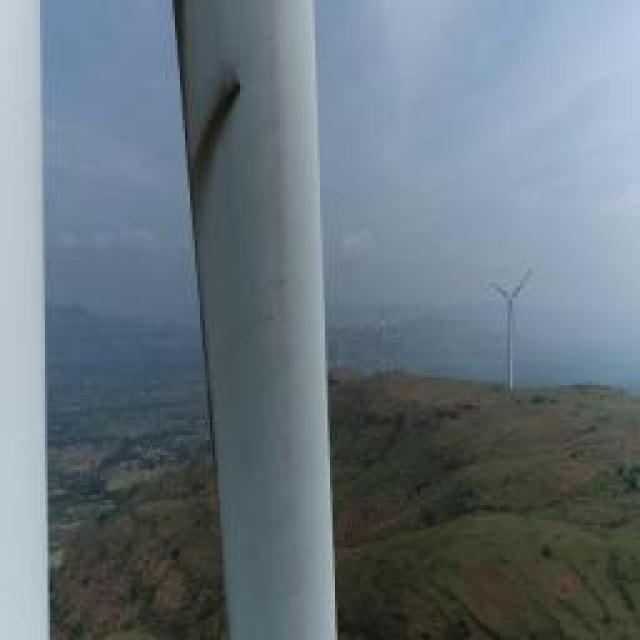Oil LEAKAGE: (190, 75, 246, 194), (175, 0, 190, 139)
